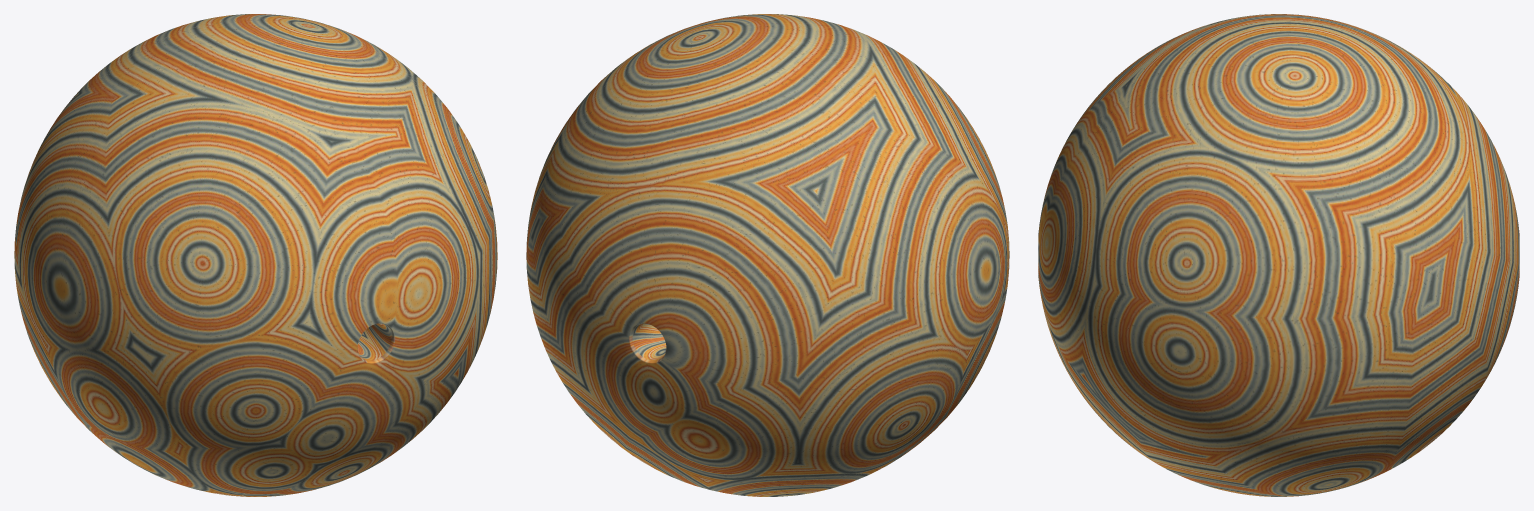
File: crazy-lace-agate-12mm.glb
3 views of the same model, side by side, from view 1: azimuth 30°, elevation 25°; view 2: azimuth 150°, elevation 25°; view 3: azimuth 270°, elevation 25° (orthographic).
Parts seen in each view (by area): view 1: crazy-lace-agate.001; view 2: crazy-lace-agate.001; view 3: crazy-lace-agate.001.
Boxes of the visible parts, x1,y1,x2,y2 form: crazy-lace-agate.001: (14, 14, 497, 496); crazy-lace-agate.001: (526, 14, 1009, 496); crazy-lace-agate.001: (1038, 14, 1519, 496).
Size of the model in its own units: 0.012 by 0.012 by 0.012.
Materials: 1 (1 with a texture image).
